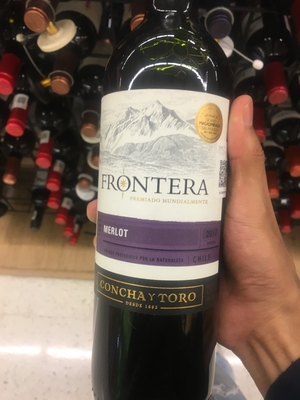frontera merlot: (75, 20, 260, 391)
